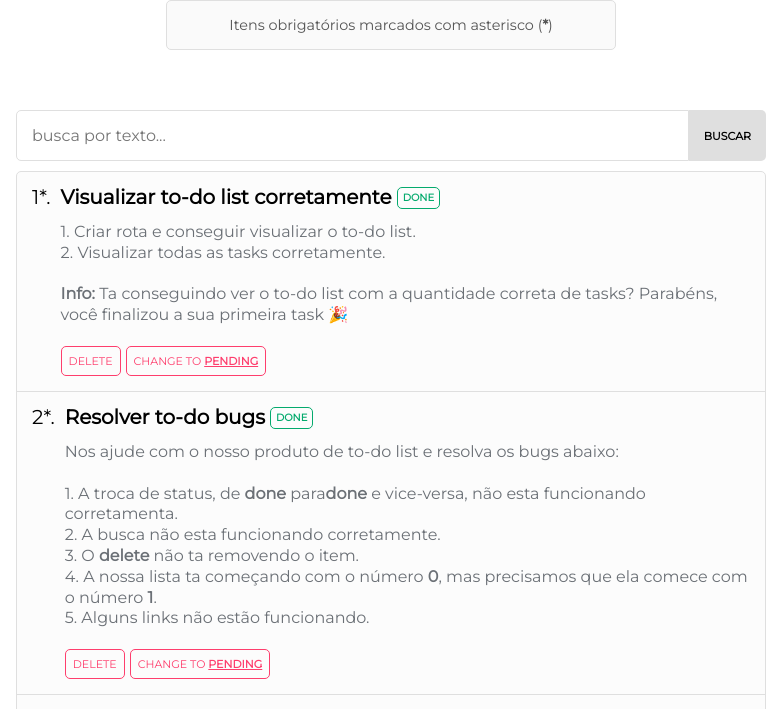
Test case: <Todo /> › should update status when button change is cliked
The image size is (783, 709).
(page scrolled)
Expected: the text "done" next to "Visualizar to-do list corretamente" is shown, left=403, top=191, right=434, bottom=204
Click the button "change to pending" below "Visualizar to-do list corretamente". click: click(196, 361)
box: left=126, top=346, right=266, bottom=376
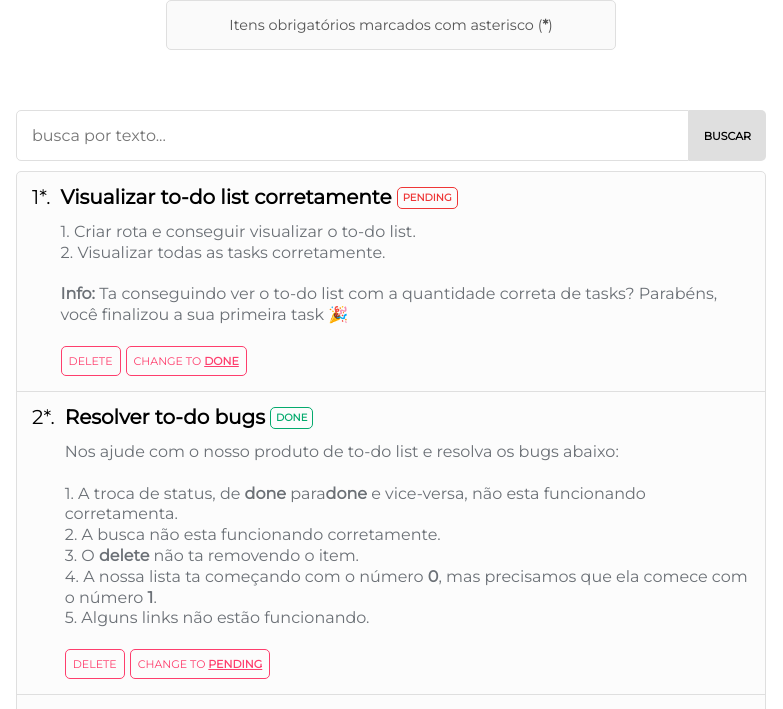
Result: the text "pending" next to "Visualizar to-do list corretamente" is shown at left=403, top=191, right=452, bottom=204
